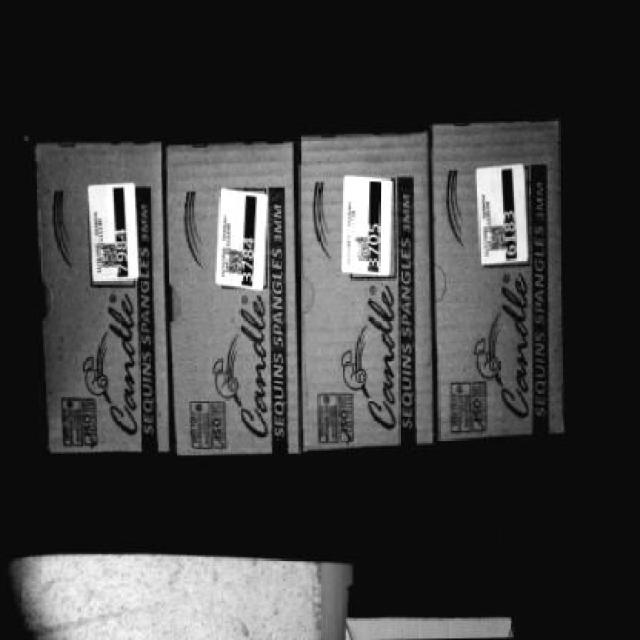cardboxes: (37, 137, 168, 457), (436, 122, 564, 441), (301, 140, 433, 448), (172, 144, 298, 453)
